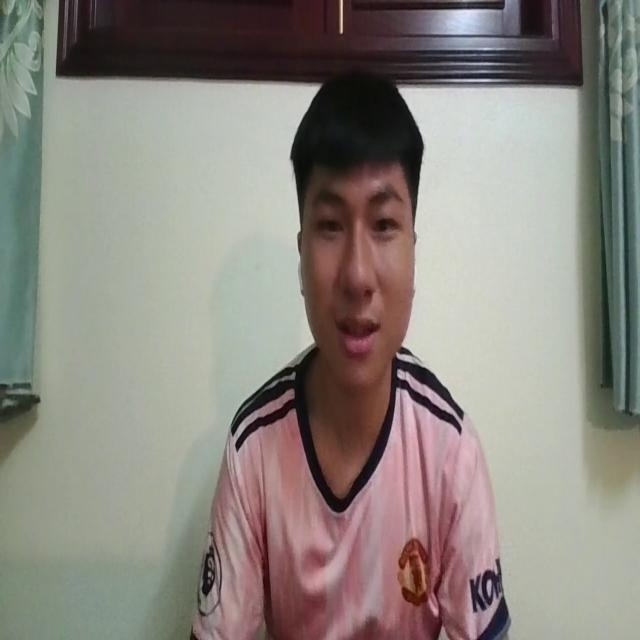student: (195, 61, 508, 640)
